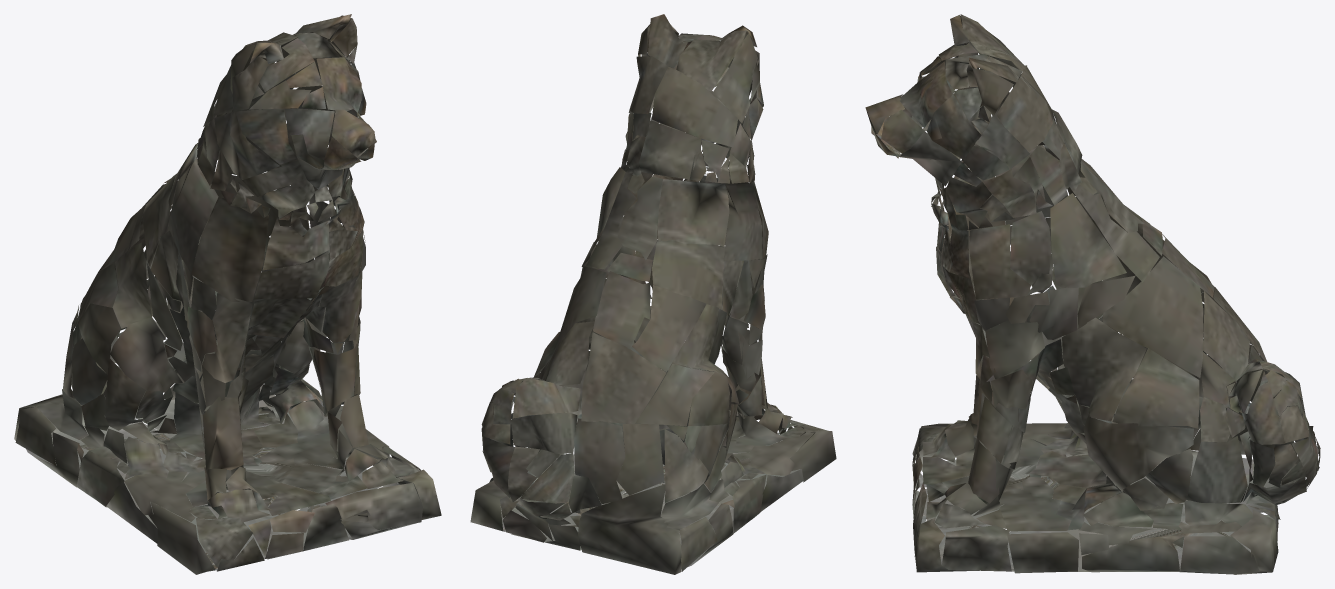
The model's file is hachiko-statue.glb.
3 views of the same model, side by side, from view 1: azimuth 30°, elevation 25°; view 2: azimuth 150°, elevation 25°; view 3: azimuth 270°, elevation 25° (orthographic). The views are drawn at different scales.
Parts seen in each view (by area): view 1: Mesh_0; view 2: Mesh_0; view 3: Mesh_0.
Part boxes in pixels (left/top/right/bottom): Mesh_0: left=14, top=14, right=441, bottom=574; Mesh_0: left=470, top=14, right=836, bottom=574; Mesh_0: left=865, top=14, right=1320, bottom=574.
Size of the model in its own units: 0.9709 by 1.89 by 1.61.
Materials: 1 (1 with a texture image).
